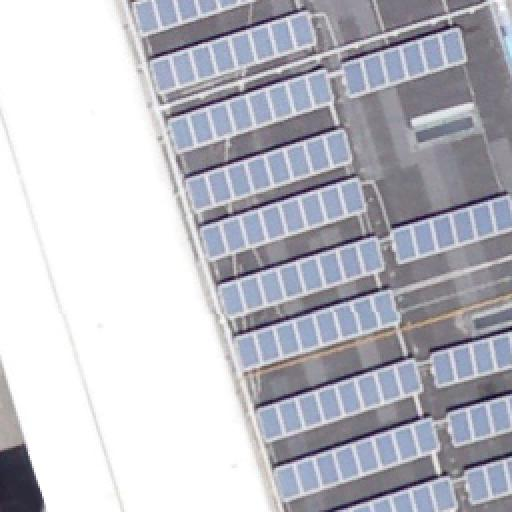solar-panel: (166, 66, 338, 158), (181, 127, 355, 217), (272, 411, 444, 501), (253, 354, 427, 442), (149, 8, 323, 96), (213, 233, 387, 319), (231, 284, 401, 372), (199, 173, 369, 259), (339, 24, 469, 100), (390, 193, 512, 263), (428, 326, 512, 386), (129, 1, 255, 39), (336, 473, 460, 511), (444, 391, 512, 449), (464, 453, 512, 507)
